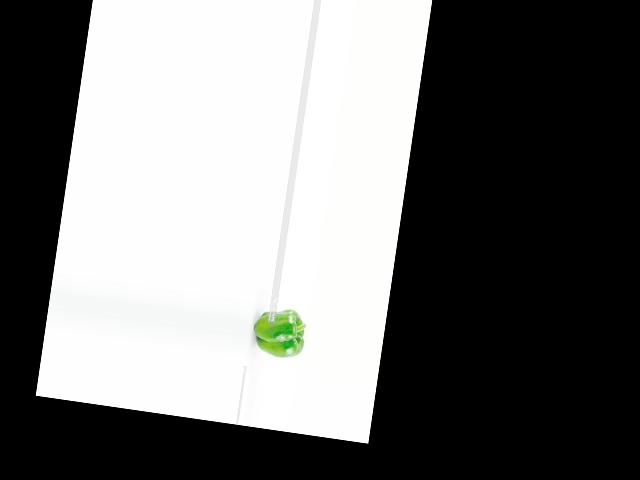bell_pepper: (248, 305, 311, 362)
